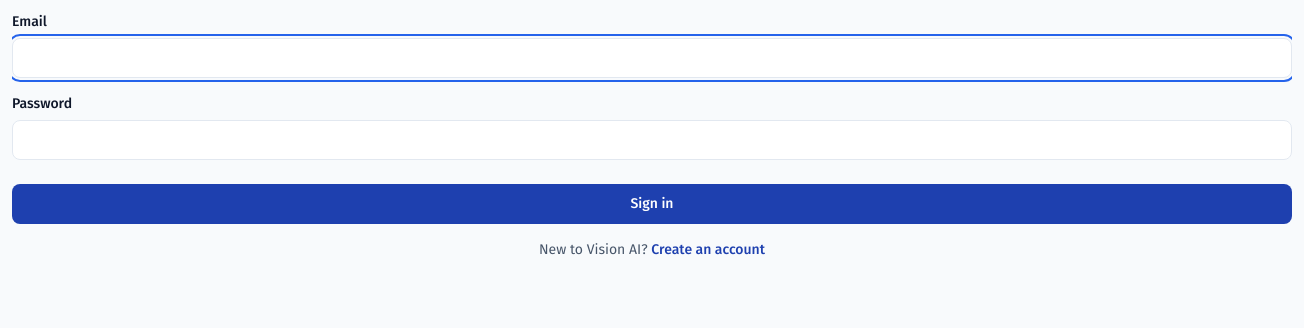
Test case: AuthForm › shows the API's message for failed sign-in
The width and height of the screenshot is (1304, 328).
Type "ada@example.com" into the field labelled "Email" at (652, 58), box top-left (12, 38), bottom-right (1292, 78)
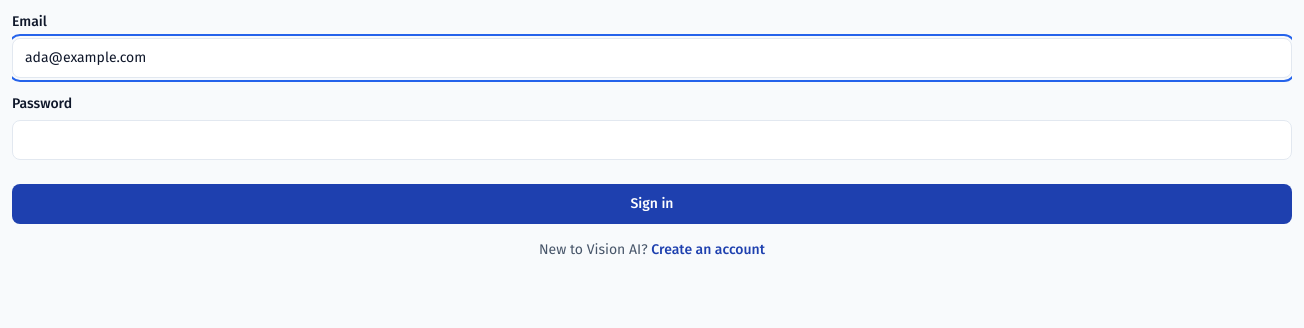
Type "wrong password" into the password field labelled "Password" at (652, 140), box top-left (12, 120), bottom-right (1292, 160)
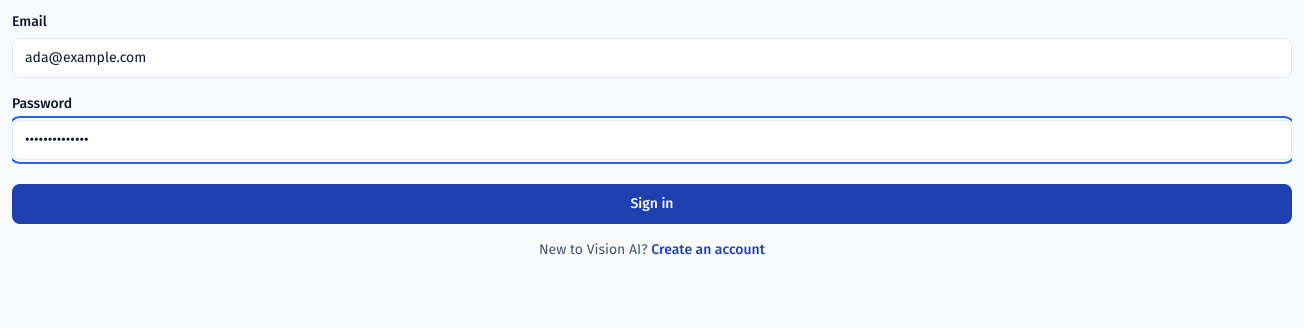
Click the button "Sign in" at (652, 204), box top-left (12, 184), bottom-right (1292, 224)
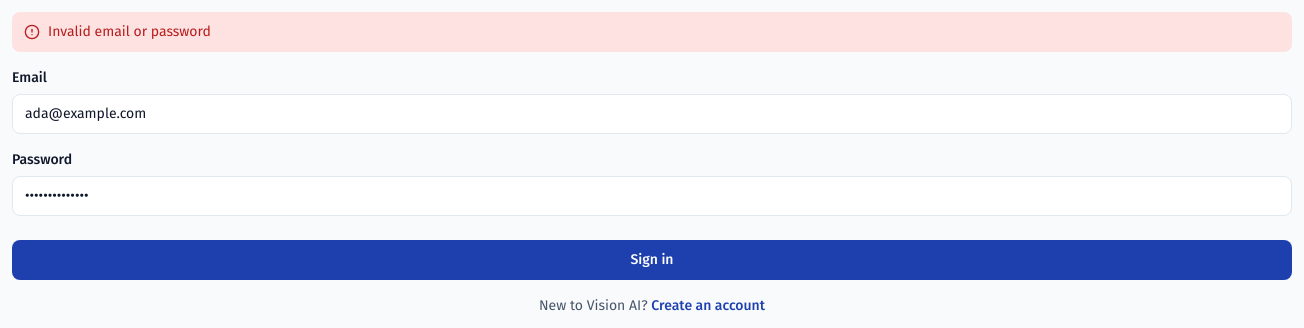
Check: the button "Sign in" is enabled, box top-left (12, 240), bottom-right (1292, 280)
Check: the message reads "Invalid email or password", box top-left (48, 23), bottom-right (211, 40)
